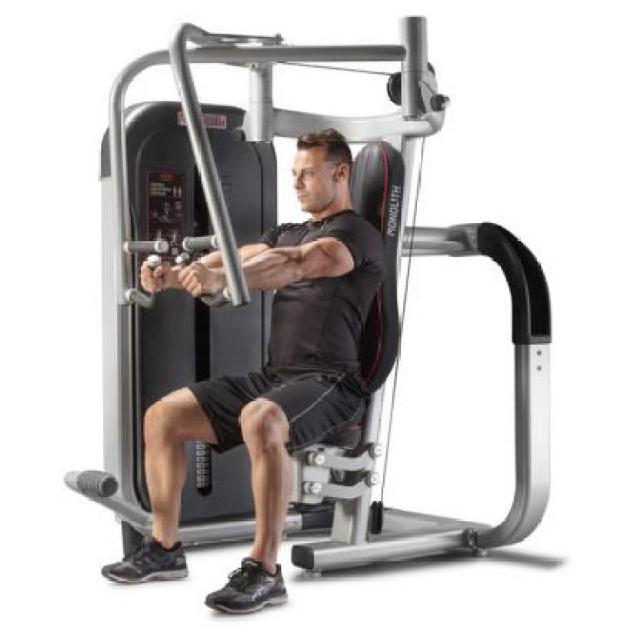Chest Press machine: (62, 12, 560, 616)
